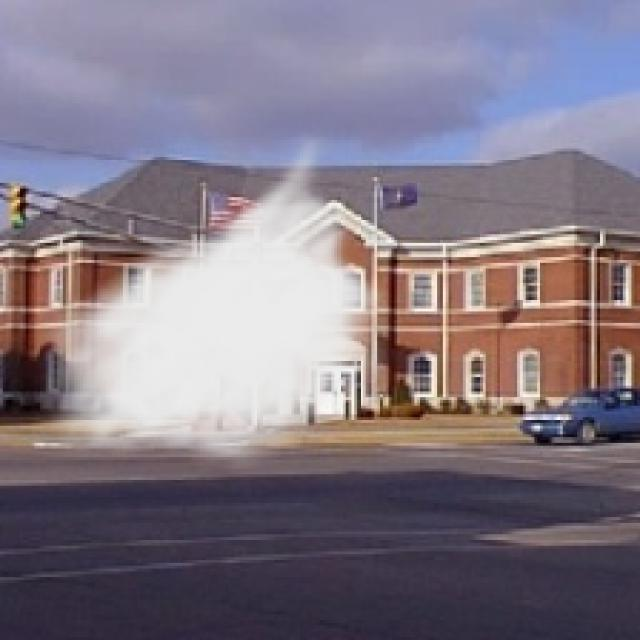Smoke: (28, 128, 394, 472)
